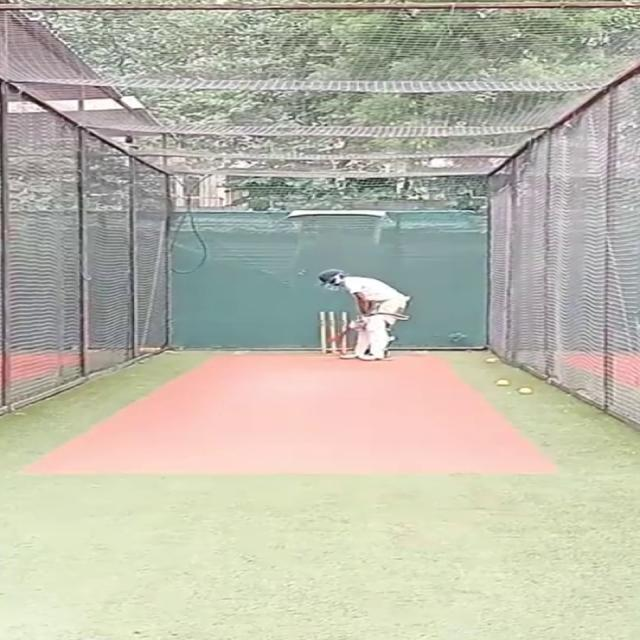ball: (516, 385, 534, 396), (493, 377, 512, 387), (482, 356, 497, 364)
stump: (316, 310, 348, 355)
